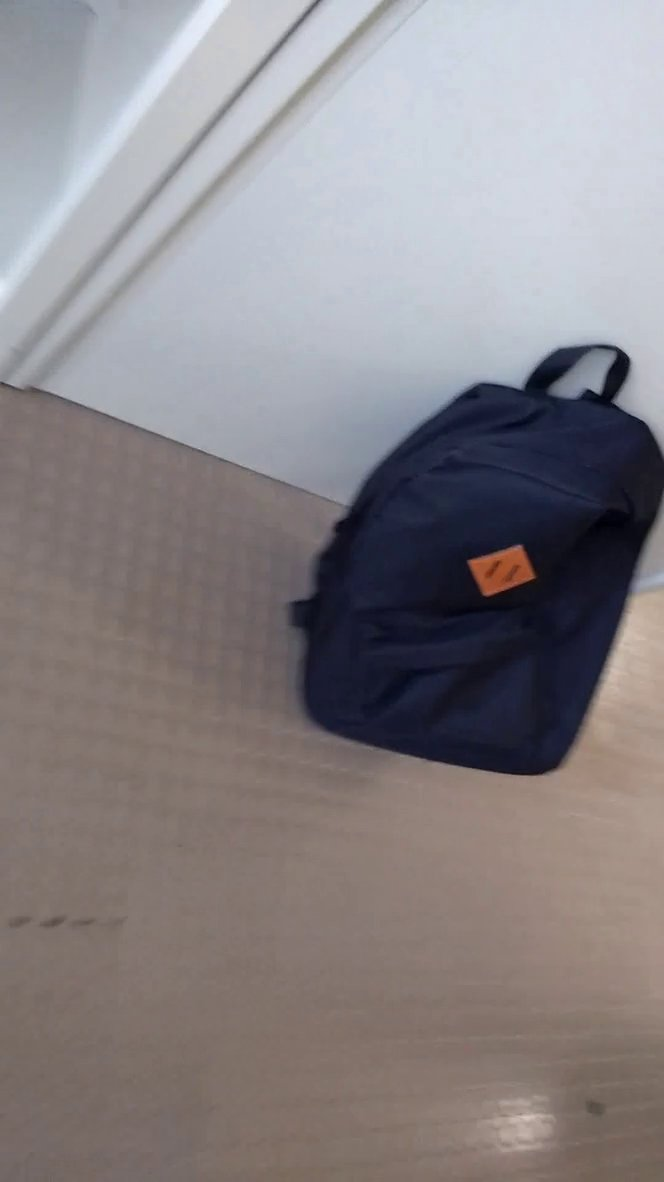bag: (268, 328, 664, 799)
